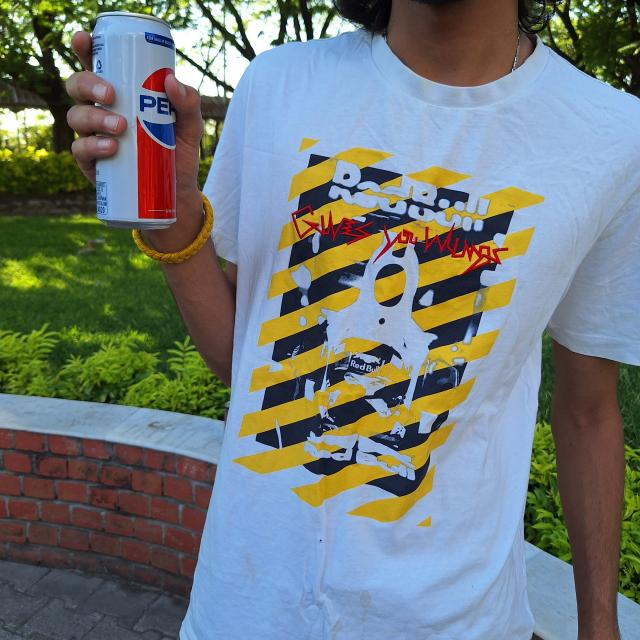Pepsi Retro: (90, 9, 180, 229)
